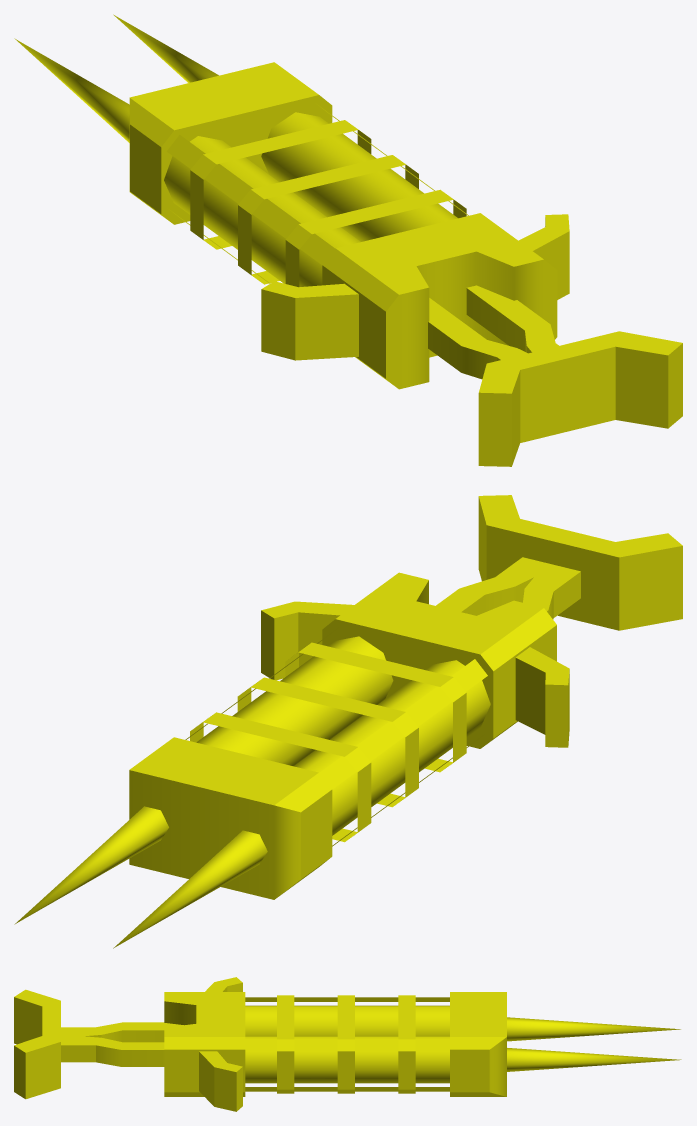
File: adrenaline.fbx
3 views of the same model, one above another, from view 1: azimuth 30°, elevation 25°; view 2: azimuth 150°, elevation 25°; view 3: azimuth 270°, elevation 25° (orthographic). The views are drawn at different scales.
Parts seen in each view (by area): view 1: adrenalineShot; view 2: adrenalineShot; view 3: adrenalineShot.
Part boxes in pixels (x1,y1,x2,y2): adrenalineShot: (14, 14, 682, 466); adrenalineShot: (14, 495, 682, 948); adrenalineShot: (14, 977, 681, 1111).
Size of the model in its own units: 0.2592 by 0.0763 by 0.77.
